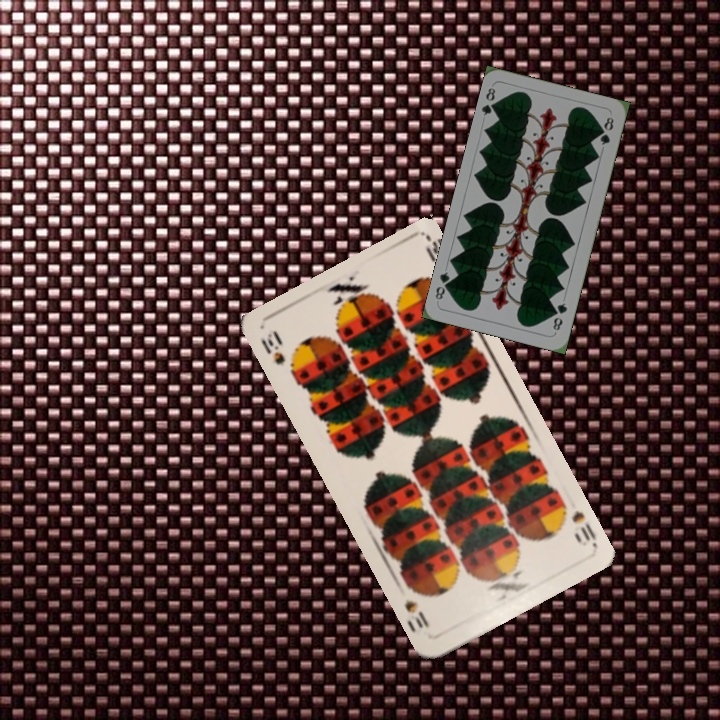G8: (478, 84, 501, 118), (549, 299, 570, 333)
S10: (554, 497, 600, 549), (257, 326, 288, 368)
